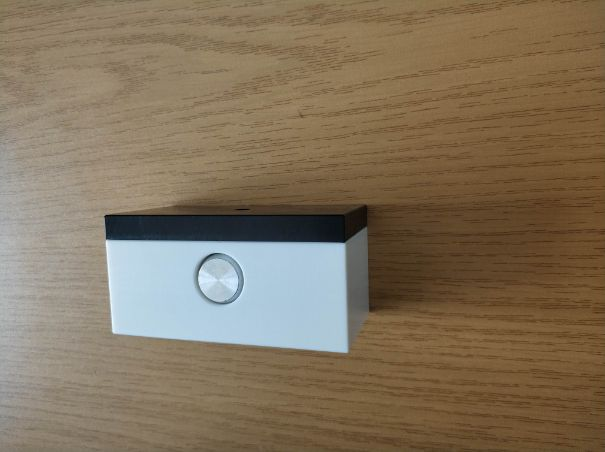black+white+silver: (100, 200, 378, 357)
